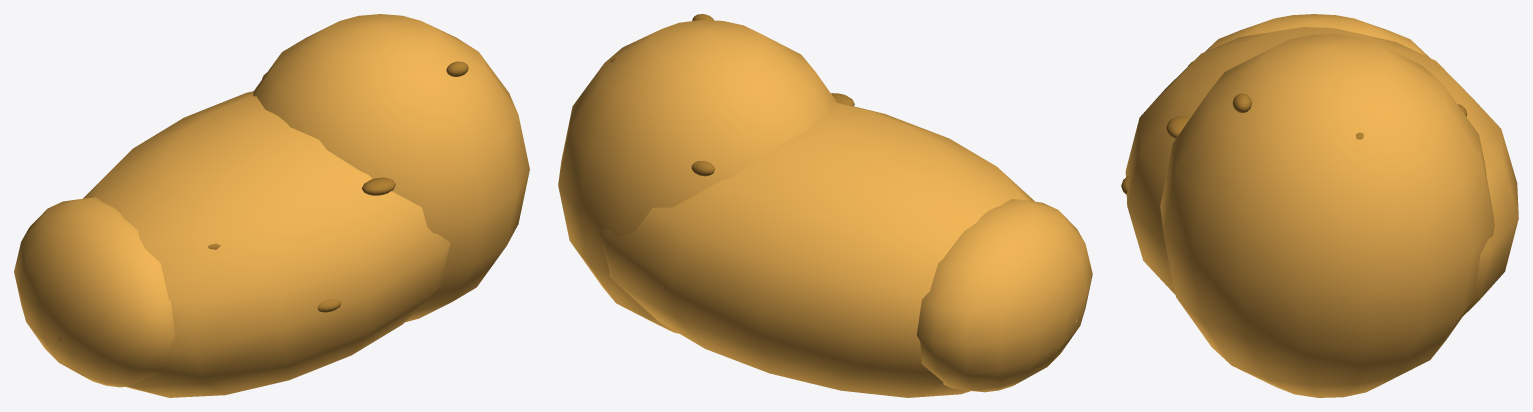
The model's file is CMU3DFoodPotatoDrinksExtraCloud.glb.
3 views of the same model, side by side, from view 1: azimuth 30°, elevation 25°; view 2: azimuth 150°, elevation 25°; view 3: azimuth 270°, elevation 25° (orthographic). The views are drawn at different scales.
Parts seen in each view (by area): view 1: continuous irregular potato tuber, higher rounded right lobe, low left knuckle, skin eye dimple 1; view 2: continuous irregular potato tuber, higher rounded right lobe, low left knuckle; view 3: higher rounded right lobe, continuous irregular potato tuber, low left knuckle.
Boxes of the visible parts, x1=… form: continuous irregular potato tuber: x1=57, y1=91, x2=450, y2=397; higher rounded right lobe: x1=253, y1=14, x2=529, y2=322; low left knuckle: x1=14, y1=197, x2=175, y2=387; skin eye dimple 1: x1=362, y1=177, x2=395, y2=195; continuous irregular potato tuber: x1=598, y1=102, x2=1077, y2=397; higher rounded right lobe: x1=558, y1=20, x2=837, y2=333; low left knuckle: x1=916, y1=199, x2=1092, y2=392; higher rounded right lobe: x1=1160, y1=34, x2=1494, y2=397; continuous irregular potato tuber: x1=1125, y1=27, x2=1518, y2=315; low left knuckle: x1=1205, y1=14, x2=1429, y2=57.
Size of the model in its own units: 0.4812 by 0.2903 by 0.2989.
